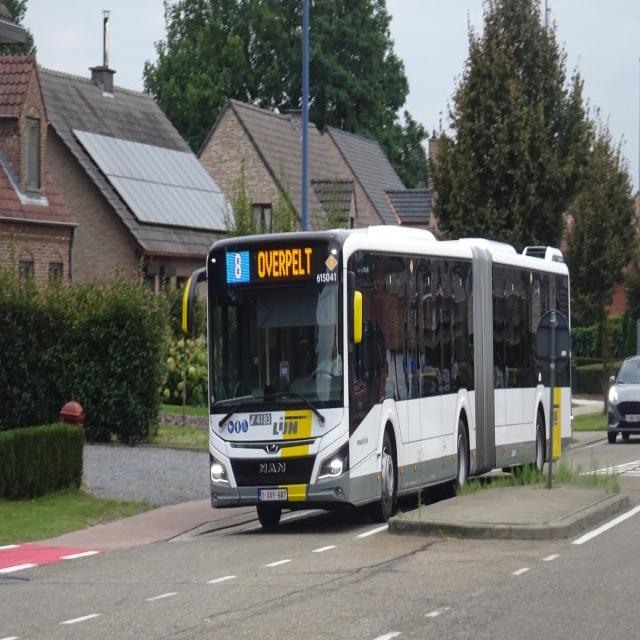bus-number: (227, 252, 249, 282)
